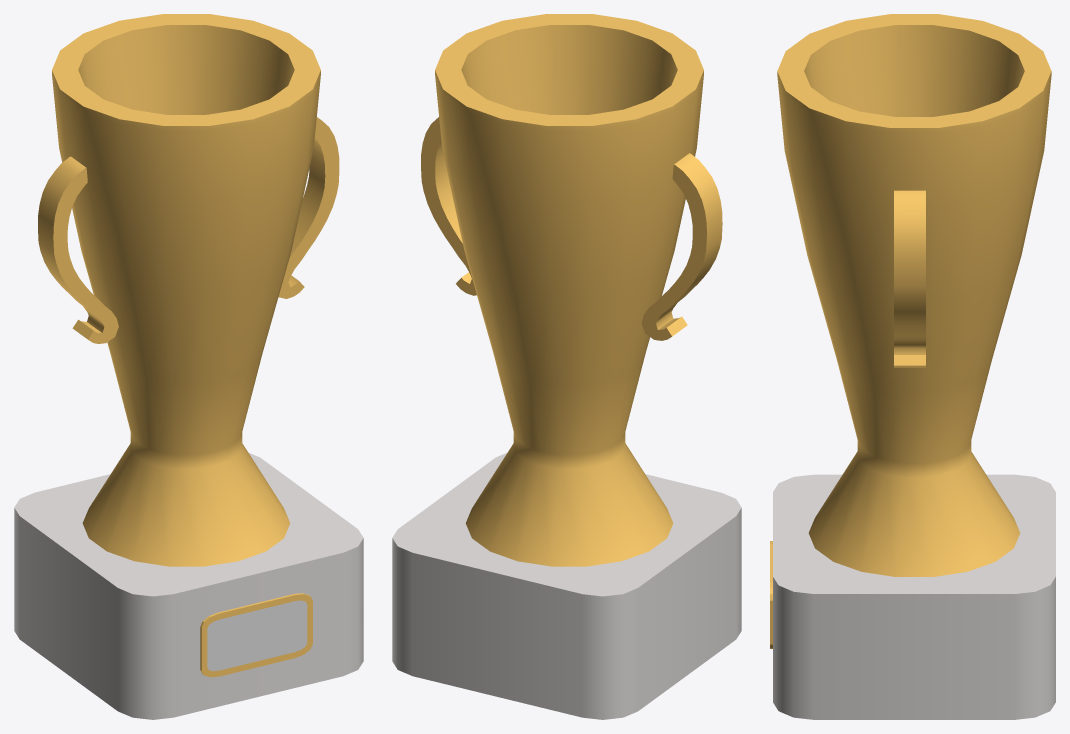
File: Cup Gold.fbx
The picture shows the model from 3 angles, left to right: view 1: azimuth 30°, elevation 25°; view 2: azimuth 150°, elevation 25°; view 3: azimuth 270°, elevation 25°; orthographic projection.
Parts seen in each view (by area): view 1: Gold Cup; view 2: Gold Cup; view 3: Gold Cup.
Boxes of the visible parts, x1=… form: Gold Cup: x1=14, y1=14, x2=363, y2=719; Gold Cup: x1=392, y1=14, x2=741, y2=719; Gold Cup: x1=770, y1=14, x2=1055, y2=719.
Bounding box in the file's own units: 51.97 × 100 × 44.13.
